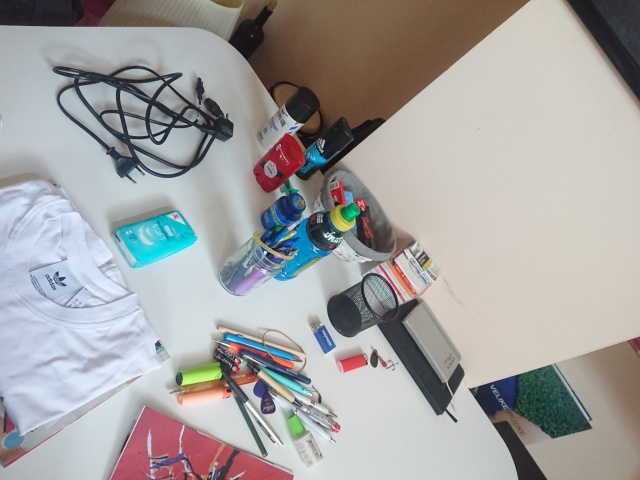Vindi Iso Sport Forest Strawberries 500mL: (263, 201, 362, 282)
